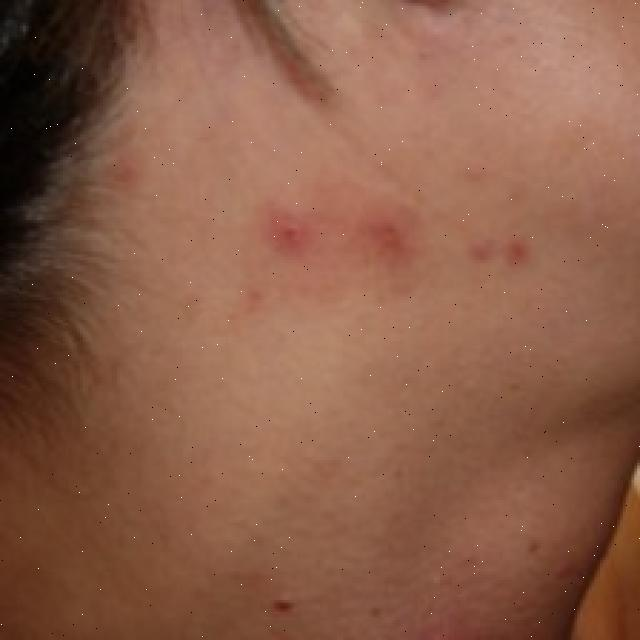Acne: (252, 178, 531, 288)
